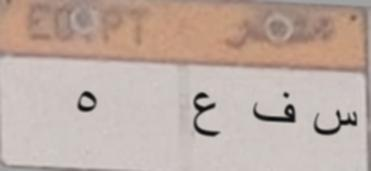5: (68, 83, 105, 125)
ain: (185, 88, 226, 146)
faa: (252, 90, 300, 128)
seen: (308, 99, 361, 142)
